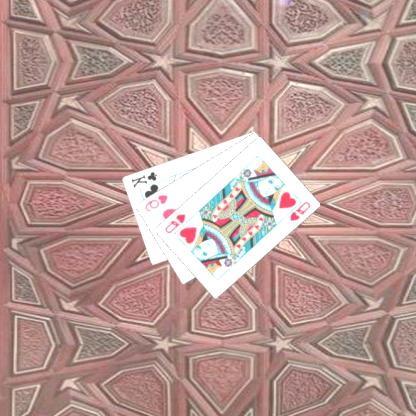6H: (144, 192, 171, 213)
KC: (130, 168, 165, 191)
QH: (282, 198, 314, 222), (164, 211, 188, 235)
